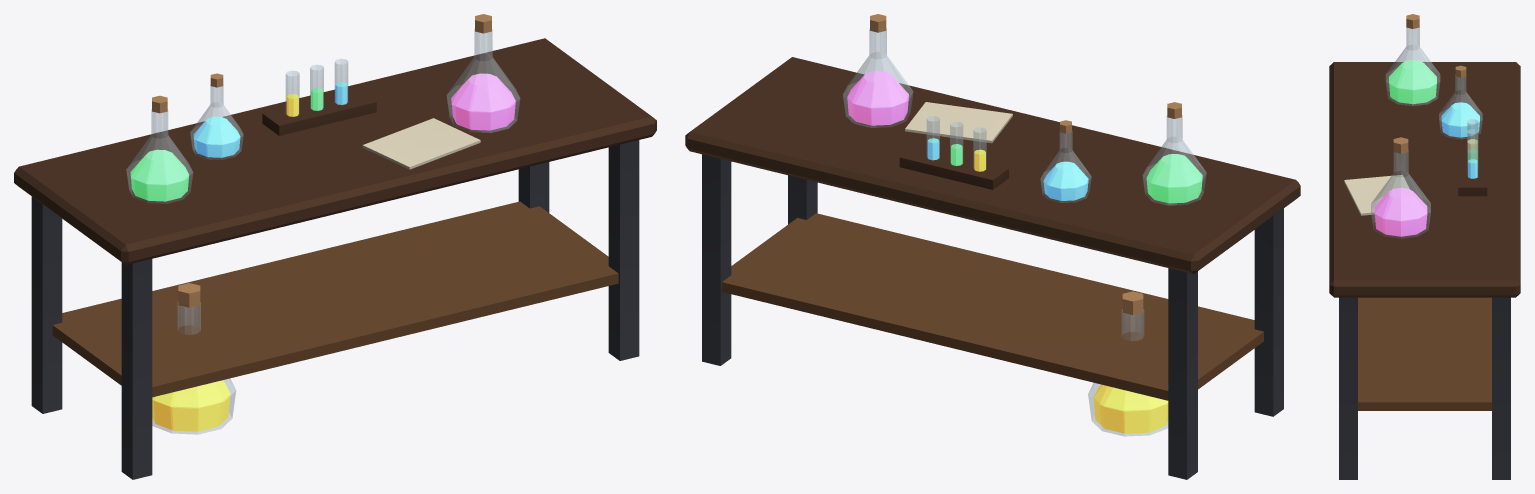
File: lab_bench.glb
3 renders of one model, left to right at view 1: azimuth 30°, elevation 25°; view 2: azimuth 150°, elevation 25°; view 3: azimuth 270°, elevation 25°, orthographic. The views are drawn at different scales.
Visible parts, largest first — view 1: lab_bench; view 2: lab_bench; view 3: lab_bench.
Part boxes in pixels (x1,y1,x2,y2): lab_bench: (14, 14, 656, 479); lab_bench: (685, 14, 1300, 479); lab_bench: (1329, 14, 1520, 479).
Size of the model in its own units: 2.2 by 1.34 by 0.8.
